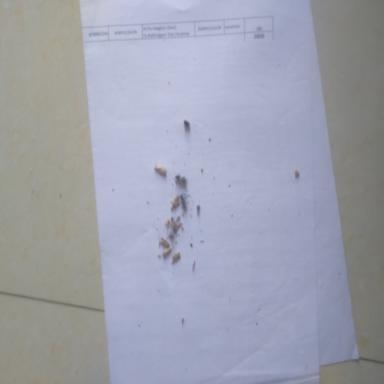pbw: (154, 165, 167, 174), (162, 246, 172, 255)
